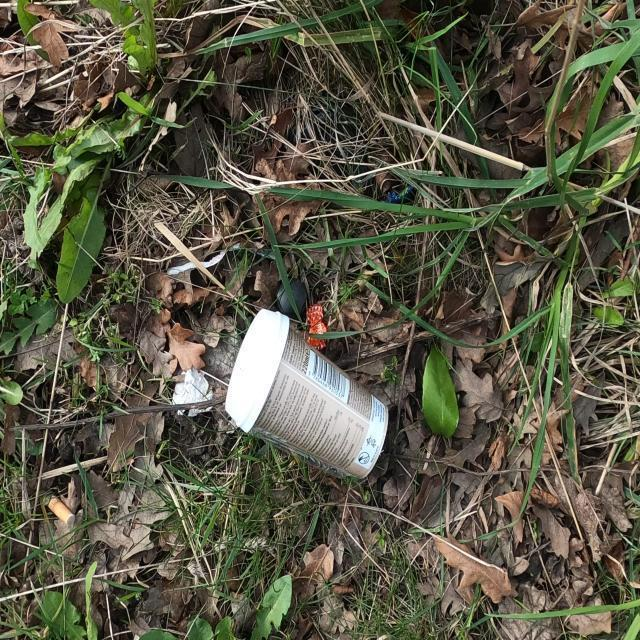Cup: (208, 308, 400, 496)
Plastic: (306, 299, 336, 352)
